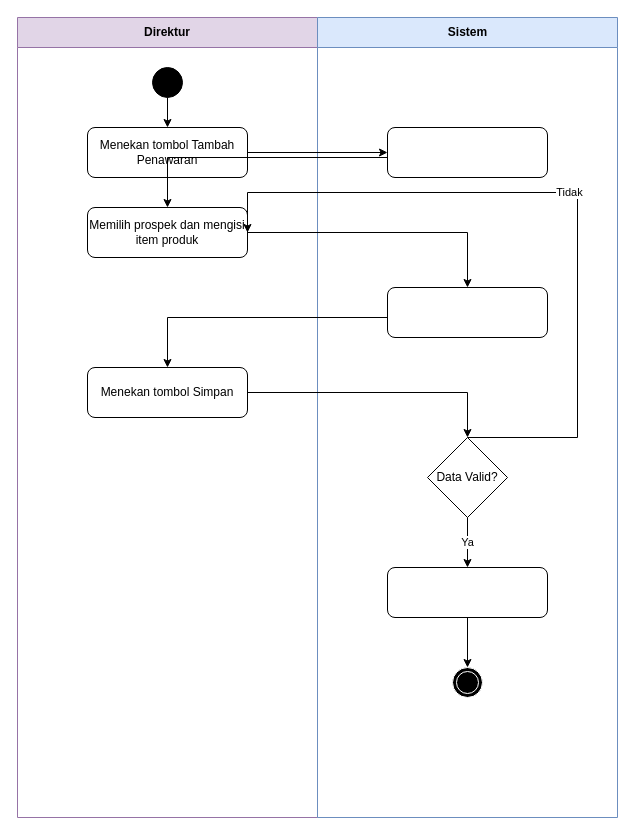
Some shapes in this 635 by 835 pixel diagram are drawn without their labels. The centre of each missing label's shape, as x and y in pixels:
"Menampilkan form penawaran" goes at (467,152).
"Menghitung total harga" goes at (467,312).
"Menyimpan penawaran ke database" goes at (467,592).
